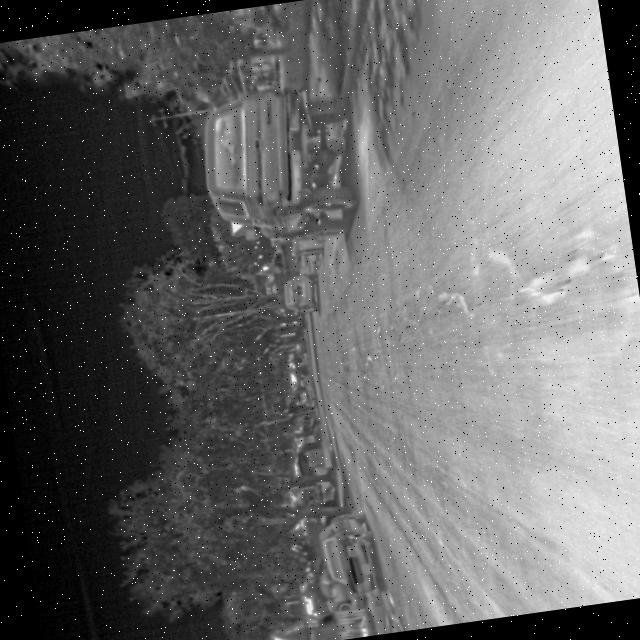Vehicle: (190, 74, 370, 256), (313, 508, 384, 602), (277, 270, 325, 319)
